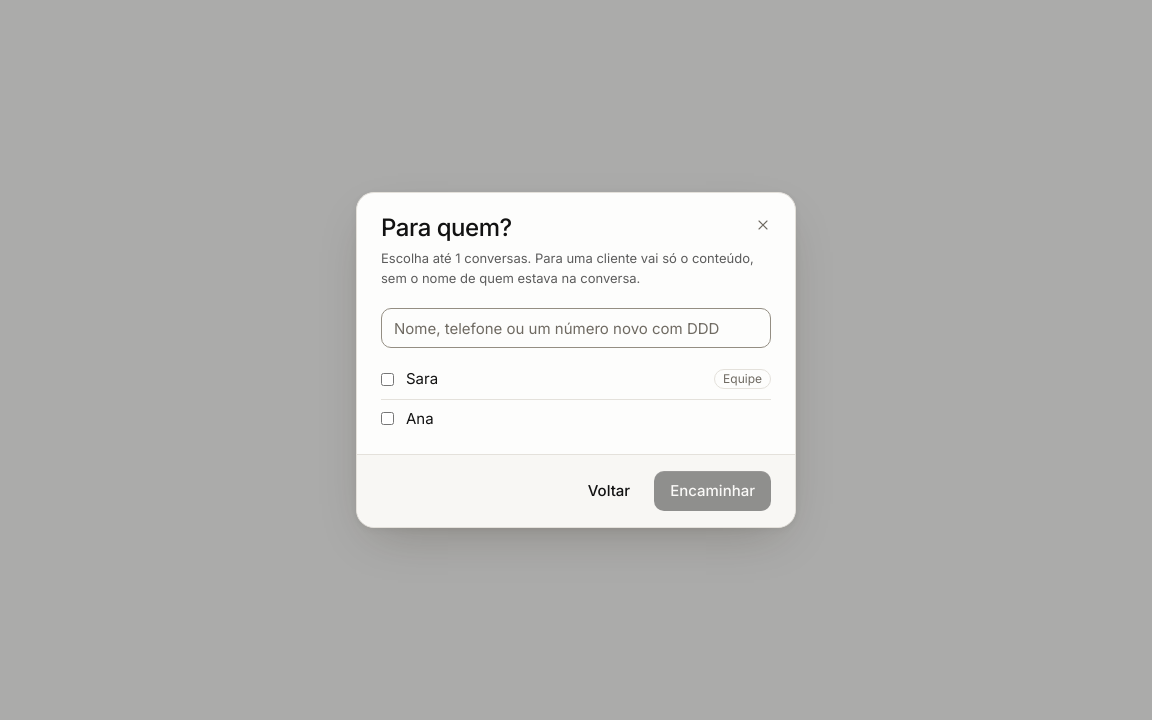
Para quem? › não deixa marcar mais que o limite e mostra a Equipe
Click the checkbox labelled "Sara". click: coordinates (388, 379)
box: [381,373,394,386]
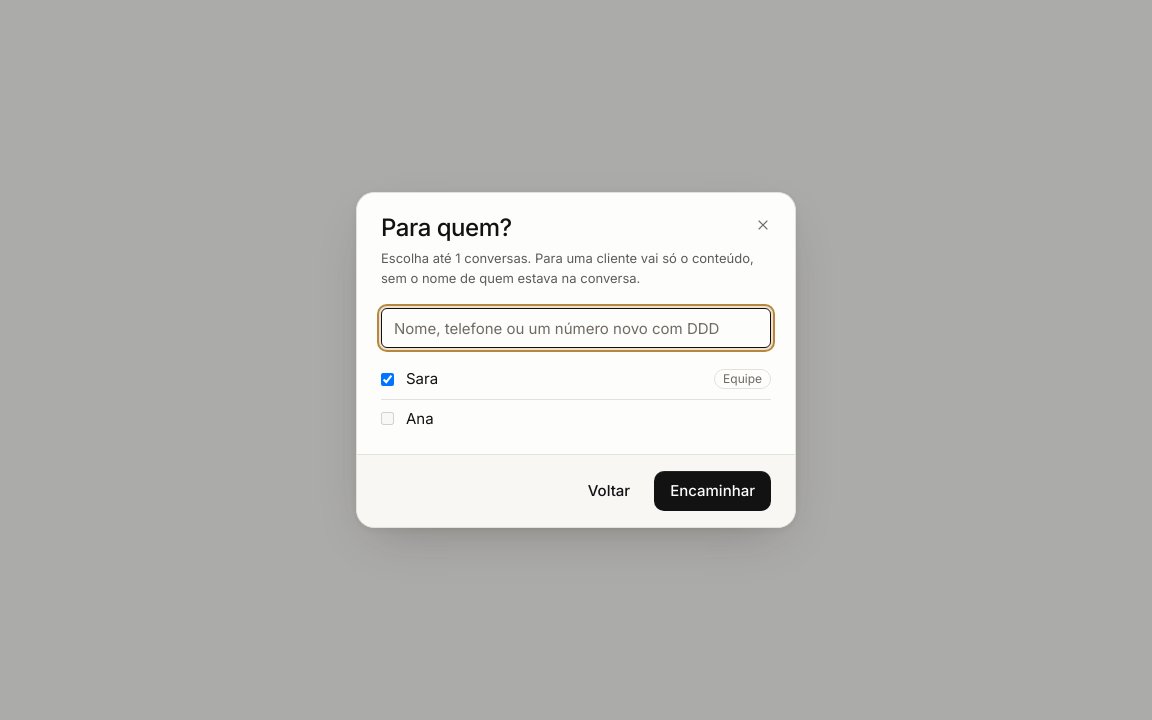
Expected: the text "Equipe" is shown, [714,369,771,389]
Now the checkbox labelled "Ana" is disabled, box [381,412,394,425]
